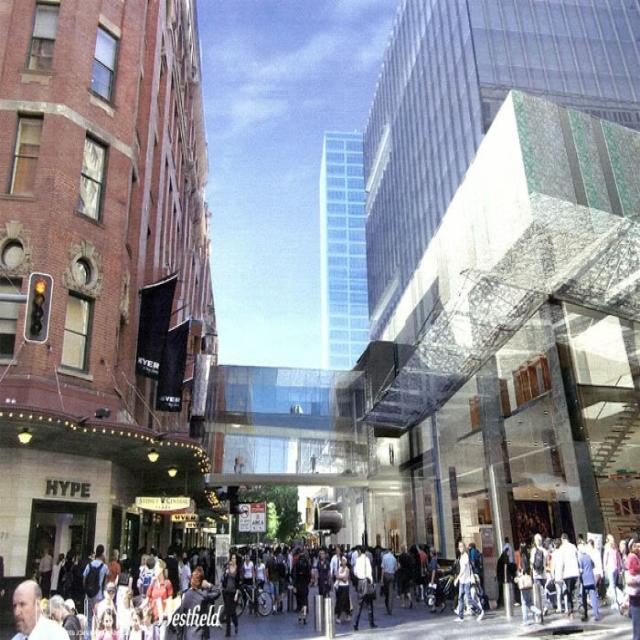body: (378, 615, 636, 640), (11, 579, 70, 640), (179, 569, 223, 639), (79, 542, 109, 638), (452, 539, 484, 621), (513, 542, 544, 626), (351, 544, 380, 630), (145, 558, 173, 639), (230, 543, 352, 561), (556, 532, 580, 619), (453, 547, 482, 616), (576, 540, 600, 622), (528, 532, 550, 616), (602, 533, 624, 614), (290, 545, 312, 625), (90, 580, 119, 640), (550, 537, 572, 615), (48, 594, 82, 640), (624, 535, 639, 639), (425, 544, 447, 614), (223, 552, 242, 626), (379, 542, 398, 615), (575, 533, 593, 609), (314, 546, 333, 614), (58, 548, 83, 599), (334, 554, 352, 624), (264, 547, 282, 616), (397, 544, 414, 610), (116, 586, 137, 639), (495, 547, 512, 610), (274, 544, 289, 613), (146, 546, 163, 606), (136, 552, 150, 624), (162, 544, 180, 600), (585, 538, 604, 589), (117, 550, 134, 606), (550, 535, 562, 614), (38, 546, 54, 602), (408, 542, 422, 602), (466, 540, 485, 583), (182, 544, 214, 569), (95, 609, 121, 639), (242, 552, 254, 616), (50, 553, 67, 598), (140, 555, 157, 600), (140, 604, 161, 640), (105, 546, 123, 588), (328, 547, 346, 584), (125, 609, 147, 639), (625, 537, 640, 579), (616, 538, 629, 580), (254, 556, 268, 592), (179, 557, 192, 594), (501, 537, 518, 565), (366, 544, 379, 578), (514, 536, 526, 572), (177, 550, 191, 580), (310, 550, 321, 588), (307, 452, 320, 479), (233, 452, 247, 474), (287, 400, 305, 417), (0, 554, 5, 600), (350, 543, 359, 568), (417, 543, 428, 560), (90, 552, 97, 560)
